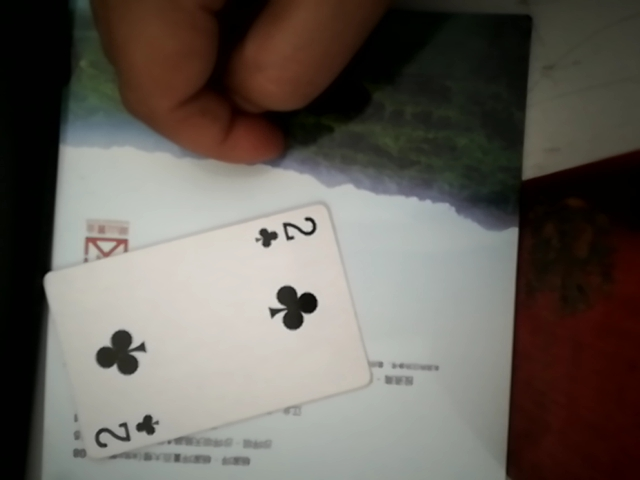mh 2: (50, 194, 372, 458)
